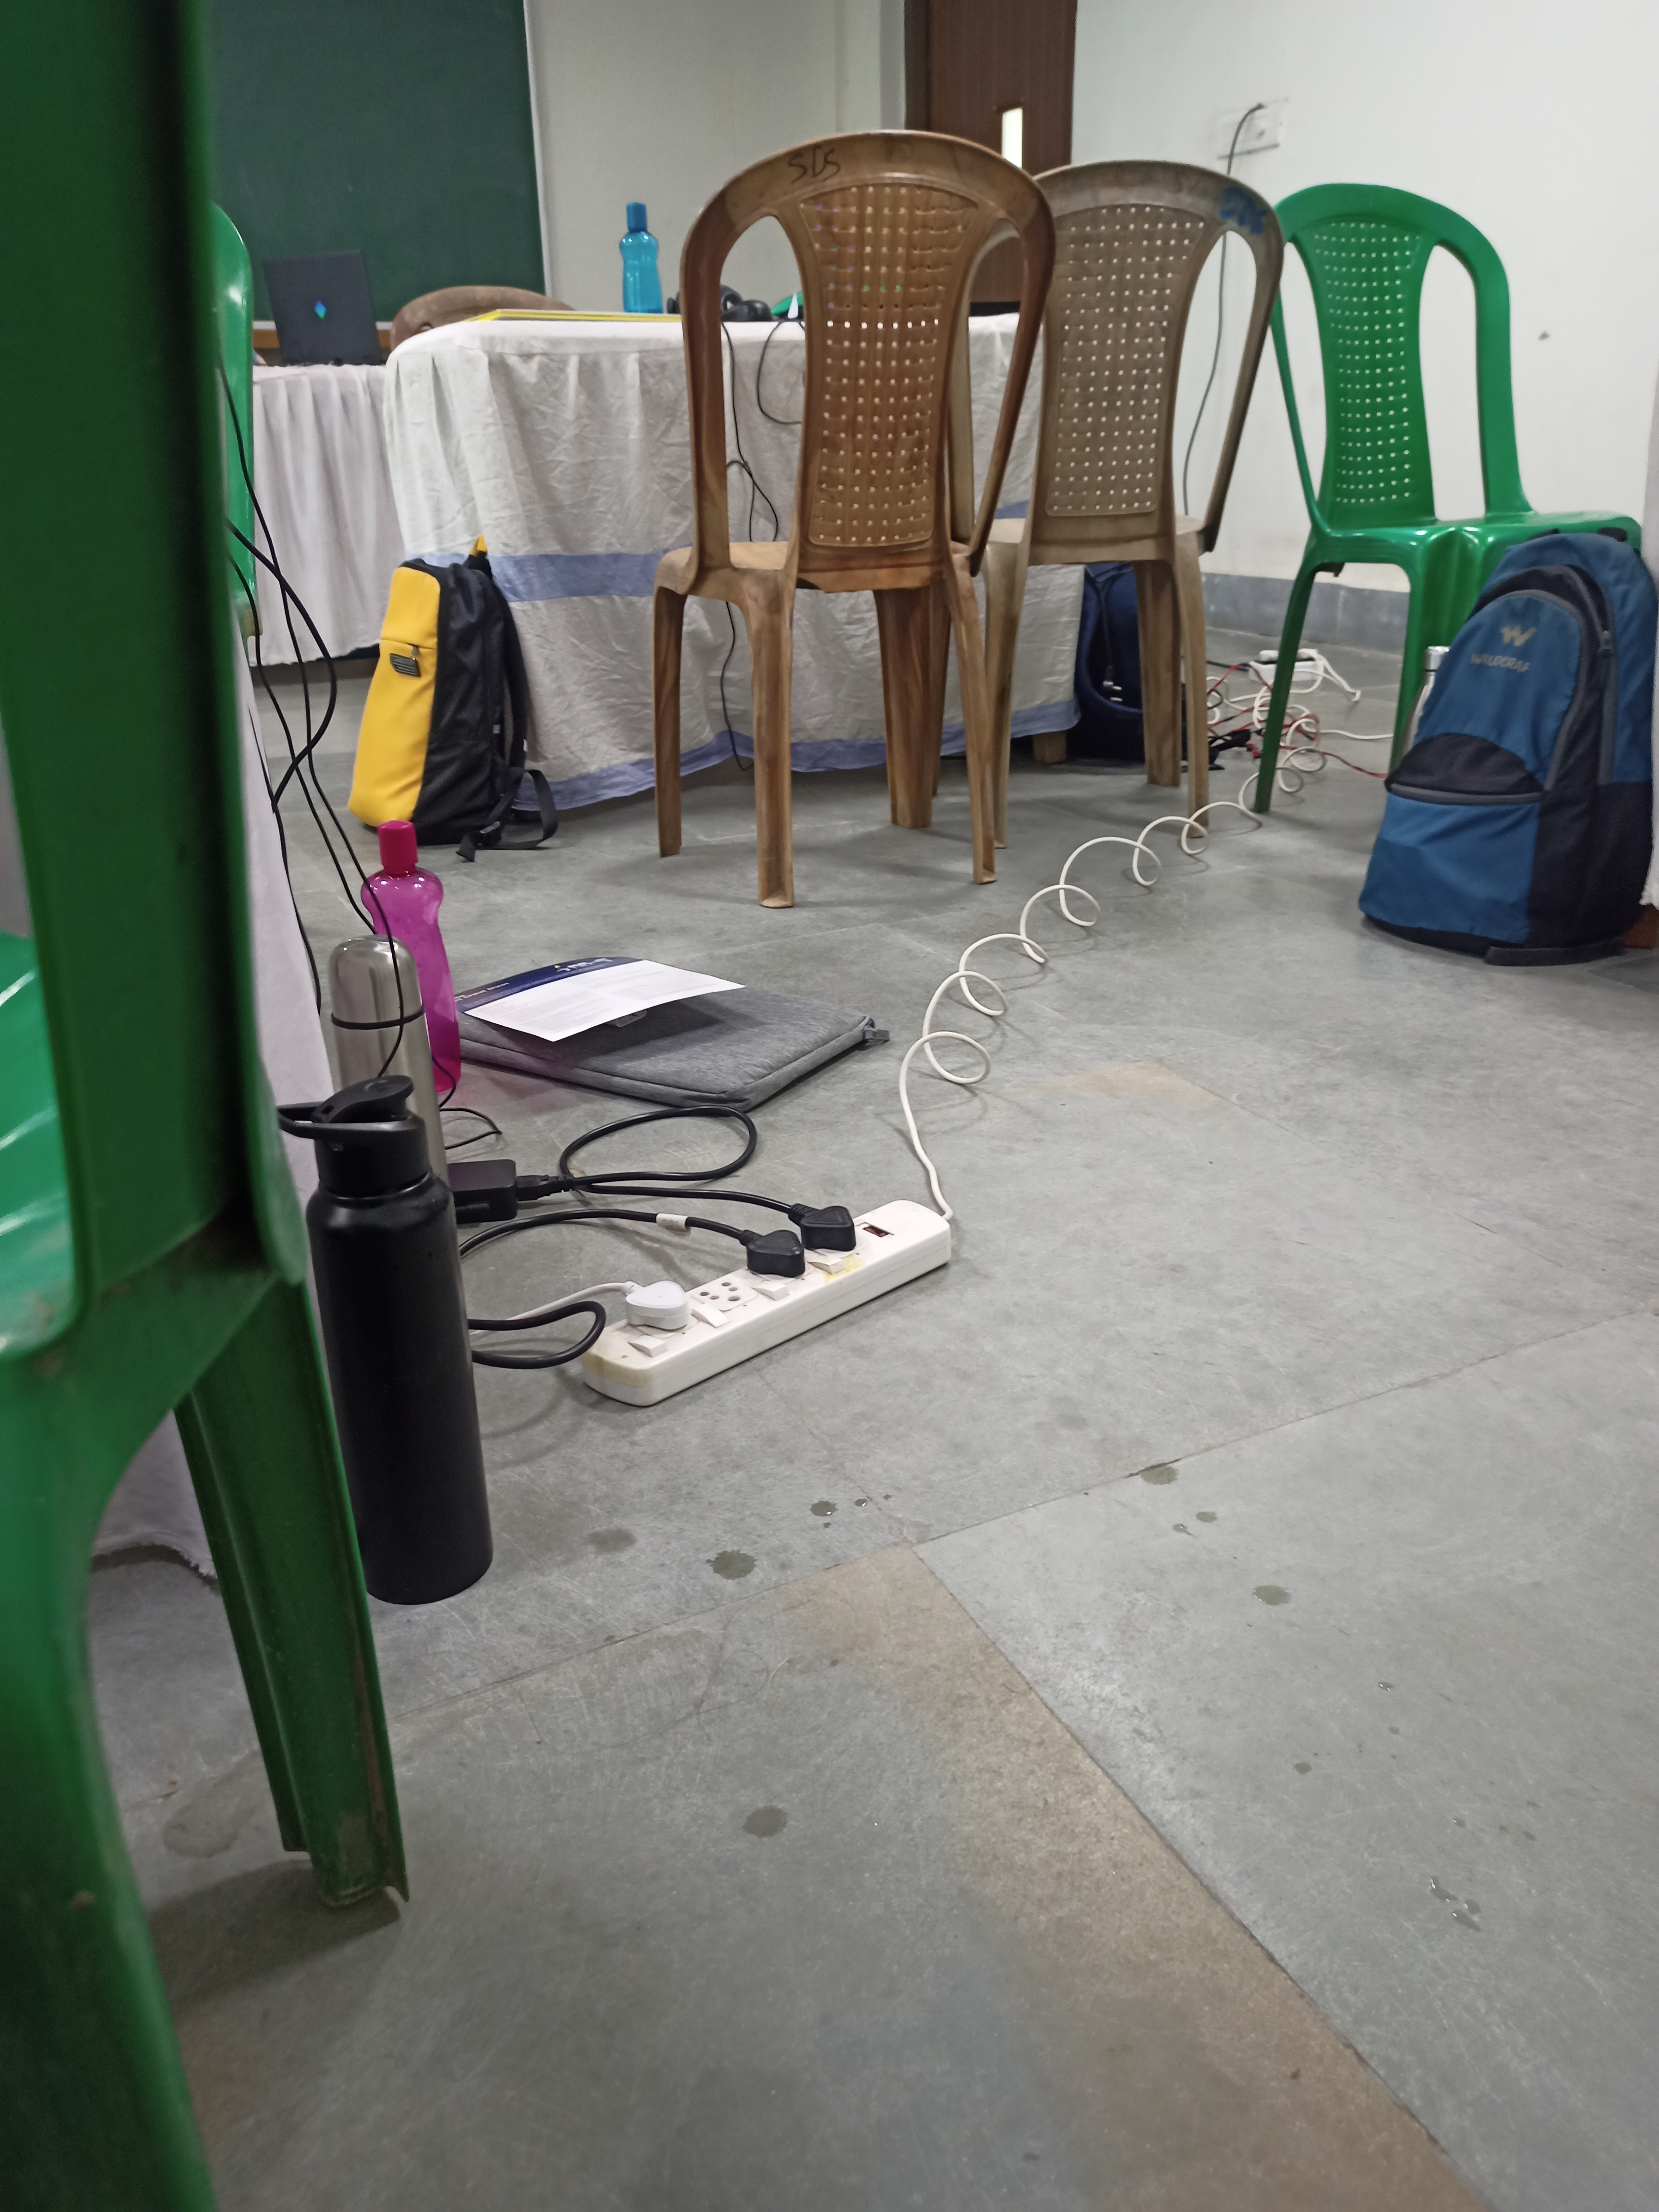Obstacle: (89, 230, 1624, 897), (0, 0, 355, 2198)
Path: (540, 883, 1622, 2179)
